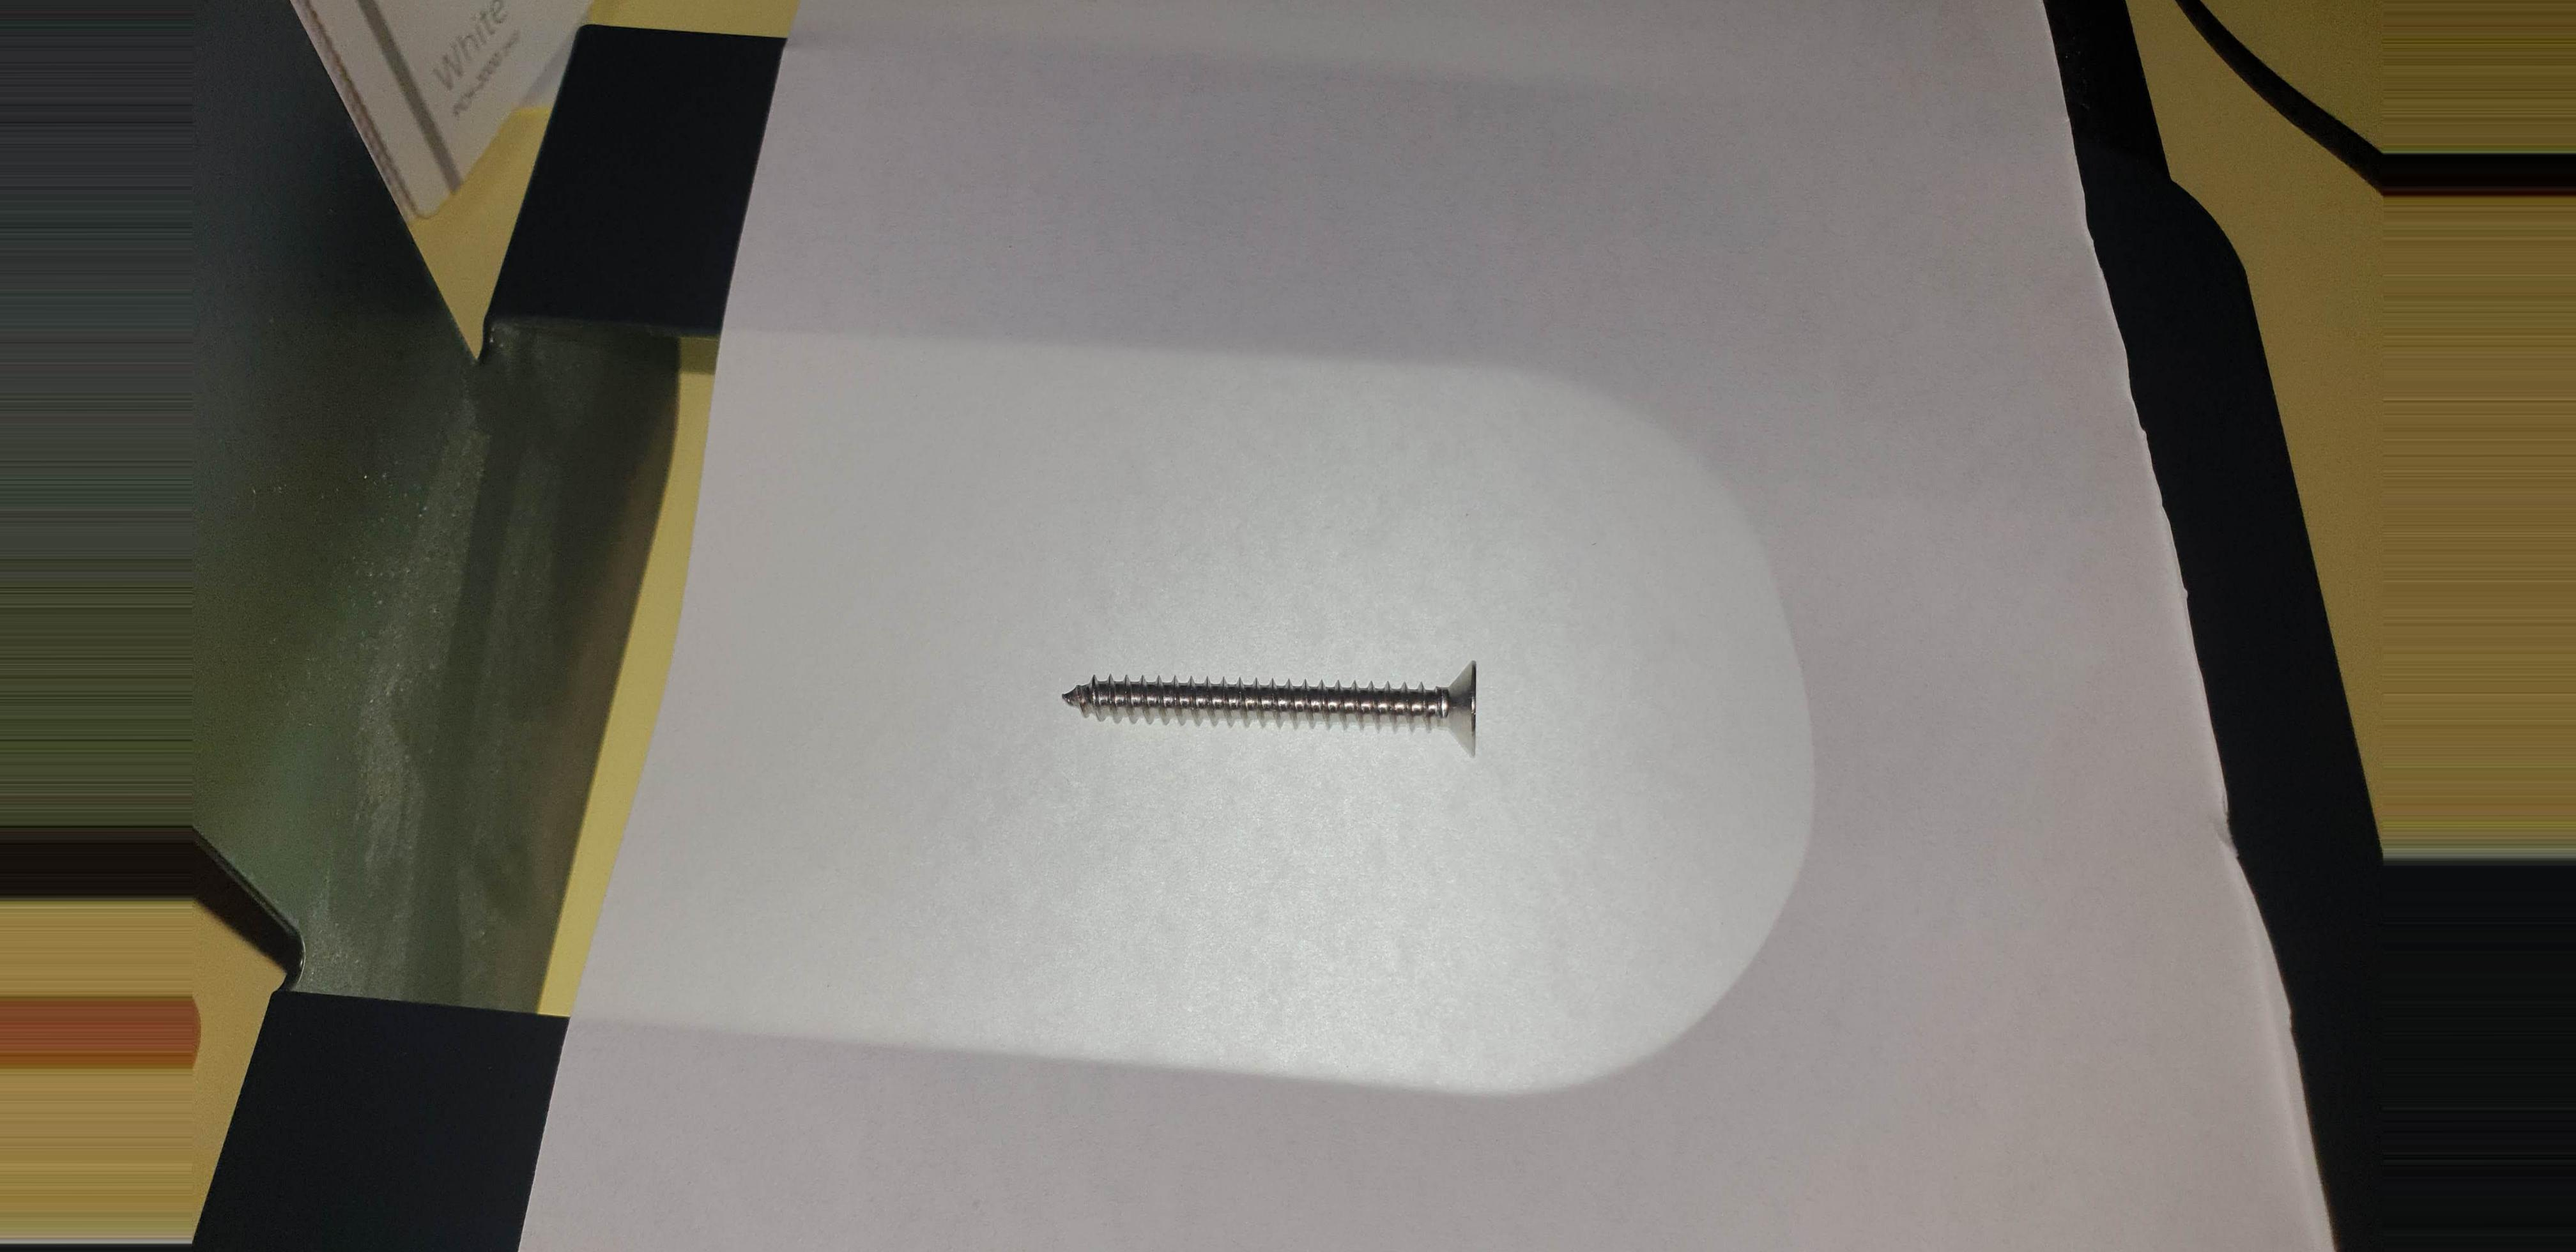fastener: (1014, 631, 1567, 780)
